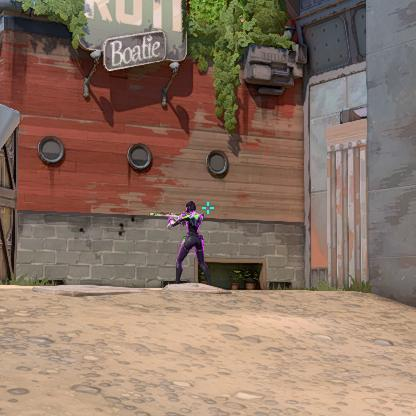enemyBody: (185, 214, 198, 232)
enemyHead: (186, 203, 195, 212)
